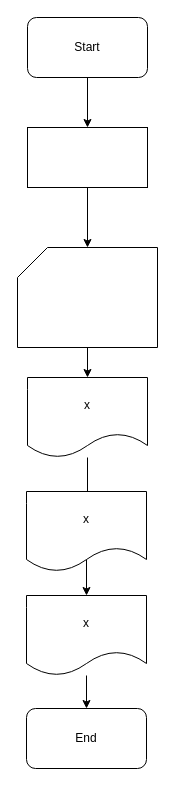
The diagram is 175 pixels wide and 786 high, and some of its shapes have lost their labels. Each missing label, with the centre of its shape:
"please enter number": (x=87, y=297)
x(int): (x=87, y=157)
